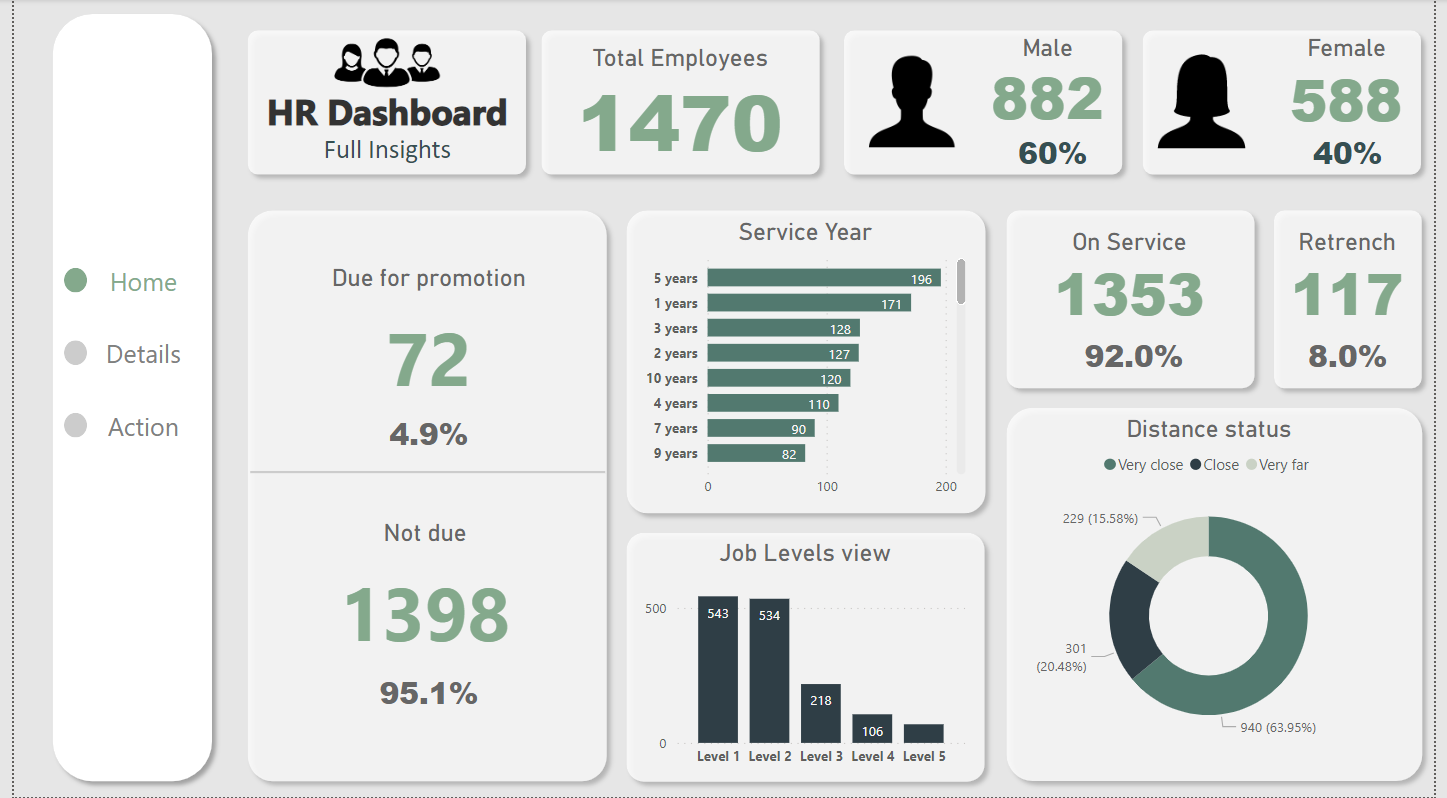

The dashboard page shown, as its layout file describes it:
{"tool":"powerbi","page":{"name":"Home","canvas":[1280,720],"ordinal":0},"visuals":[{"type":"shape","box":[26.1,4.1,161.9,709.4],"z":0},{"type":"shape","box":[201.7,19.6,268.9,147.9],"z":1000},{"type":"shape","box":[467,19.6,268.9,147.9],"z":2000},{"type":"shape","box":[1008.6,19.2,269,148.2],"z":3000},{"type":"shape","box":[739.6,19.2,269,148.2],"z":4000},{"type":"shape","box":[201.7,181.1,341.7,532.4],"z":5000},{"type":"shape","box":[543.4,181.1,341.7,290.9],"z":6000},{"type":"shape","box":[542.8,471.9,341.1,242],"z":7000},{"type":"shape","box":[885.1,181.1,241.5,178.4],"z":8000},{"type":"shape","box":[1126.6,181.1,150.9,178.4],"z":9000},{"type":"shape","box":[885.1,359.5,392.5,354],"z":10000},{"type":"textbox","box":[212.7,74.6,246.9,106.3],"z":11000},{"type":"textbox","box":[212.7,114.9,246.9,52.6],"z":12000},{"type":"card","title":"Total Employees","fields":{"Values":["All Measures.Total Emp"]},"box":[486.5,40.3,227.4,106.3],"z":13000},{"type":"card","title":"Male","fields":{"Values":["All Measures.Male"]},"box":[863,31.8,136.9,85.6],"z":14000},{"type":"card","title":"Female","fields":{"Values":["All Measures.Female"]},"box":[1136.8,31.8,128.4,90.5],"z":15000},{"type":"card","title":"Male","fields":{"Values":["All Measures.% male"]},"box":[871.6,114.9,128.4,48.9],"z":16000},{"type":"card","title":"Male","fields":{"Values":["All Measures.% female"]},"box":[1138.1,114.9,128.4,48.9],"z":17000},{"type":"card","title":"Due for promotion","fields":{"Values":["All Measures.Due for promotion"]},"box":[223.7,238.4,299.5,136.9],"z":18000},{"type":"card","fields":{"Values":["All Measures.% Due for promotion"]},"box":[223.7,359.4,299.5,67.2],"z":19000},{"type":"card","title":"Not due","fields":{"Values":["All Measures.Not due"]},"box":[221.3,468.2,299.5,136.9],"z":20000},{"type":"card","fields":{"Values":["All Measures.% Not due"]},"box":[223.7,592.9,299.5,67.2],"z":21000},{"type":"shape","box":[212.7,418.1,320.3,17.1],"z":22000},{"type":"barChart","title":"Service Year","fields":{"Category":["HR Data.Service Year"],"Y":["All Measures.Total Emp"]},"box":[563.5,196.8,299.5,260.4],"z":23000},{"type":"columnChart","title":"Job Levels view","fields":{"Category":["HR Data.Job Levels"],"Y":["All Measures.Total Emp"]},"box":[563.5,486.5,299.5,213.9],"z":24000},{"type":"card","title":"On Service","fields":{"Values":["All Measures.On services"]},"box":[908.3,206.6,194.4,90.5],"z":25000},{"type":"card","title":"Male","fields":{"Values":["All Measures.% On services"]},"box":[944.9,297,128.4,48.9],"z":26000},{"type":"card","title":"Retrench","fields":{"Values":["All Measures.Will be retrenched"]},"box":[1136.8,206.6,129.6,90.5],"z":27000},{"type":"card","title":"Male","fields":{"Values":["All Measures.% Will be retrenched"]},"box":[1138.1,297,128.4,48.9],"z":28000},{"type":"donutChart","title":"Distance status","fields":{"Category":["HR Data.Distance status"],"Y":["All Measures.Total Emp"]},"box":[899.7,375.3,355.7,308],"z":29000},{"type":"shape","box":[45.2,242,20.8,22],"z":30000},{"type":"shape","box":[45.2,372.8,20.8,22],"z":31000},{"type":"shape","box":[45.2,308,20.8,22],"z":32000},{"type":"actionButton","box":[66,298.3,100.2,40.3],"z":33000},{"type":"actionButton","box":[66,364.3,100.2,40.3],"z":34000},{"type":"actionButton","box":[66,233.5,100.2,40.3],"z":35000},{"type":"image","box":[209,0,253,117.4],"z":36000},{"type":"image","box":[751.4,32.9,111.4,120],"z":37000},{"type":"image","box":[1011.4,35.7,112.9,114.3],"z":38000}]}

Visuals, with their boxes in screenshot pixels (x1, y1, x2, y2), scaled from the page's 1280x720 canvas onto the 1447x798 screenshot:
shape: bbox(30, 5, 213, 791)
shape: bbox(228, 22, 532, 186)
shape: bbox(528, 22, 832, 186)
shape: bbox(1140, 21, 1444, 186)
shape: bbox(836, 21, 1140, 186)
shape: bbox(228, 201, 614, 791)
shape: bbox(614, 201, 1001, 523)
shape: bbox(614, 523, 999, 791)
shape: bbox(1001, 201, 1274, 398)
shape: bbox(1274, 201, 1444, 398)
shape: bbox(1001, 398, 1444, 791)
textbox: bbox(240, 83, 520, 200)
textbox: bbox(240, 127, 520, 186)
"Total Employees" card: bbox(550, 45, 807, 162)
"Male" card: bbox(976, 35, 1130, 130)
"Female" card: bbox(1285, 35, 1430, 136)
"Male" card: bbox(985, 127, 1130, 182)
"Male" card: bbox(1287, 127, 1432, 182)
"Due for promotion" card: bbox(253, 264, 591, 416)
card - All Measures.% Due for promotion: bbox(253, 398, 591, 473)
"Not due" card: bbox(250, 519, 589, 671)
card - All Measures.% Not due: bbox(253, 657, 591, 732)
shape: bbox(240, 463, 603, 482)
"Service Year" barChart: bbox(637, 218, 976, 507)
"Job Levels view" columnChart: bbox(637, 539, 976, 776)
"On Service" card: bbox(1027, 229, 1247, 329)
"Male" card: bbox(1068, 329, 1213, 383)
"Retrench" card: bbox(1285, 229, 1432, 329)
"Male" card: bbox(1287, 329, 1432, 383)
"Distance status" donutChart: bbox(1017, 416, 1419, 757)
shape: bbox(51, 268, 75, 293)
shape: bbox(51, 413, 75, 438)
shape: bbox(51, 341, 75, 366)
actionButton: bbox(75, 331, 188, 375)
actionButton: bbox(75, 404, 188, 448)
actionButton: bbox(75, 259, 188, 303)
image: bbox(236, 0, 522, 130)
image: bbox(849, 36, 975, 169)
image: bbox(1143, 40, 1271, 166)
